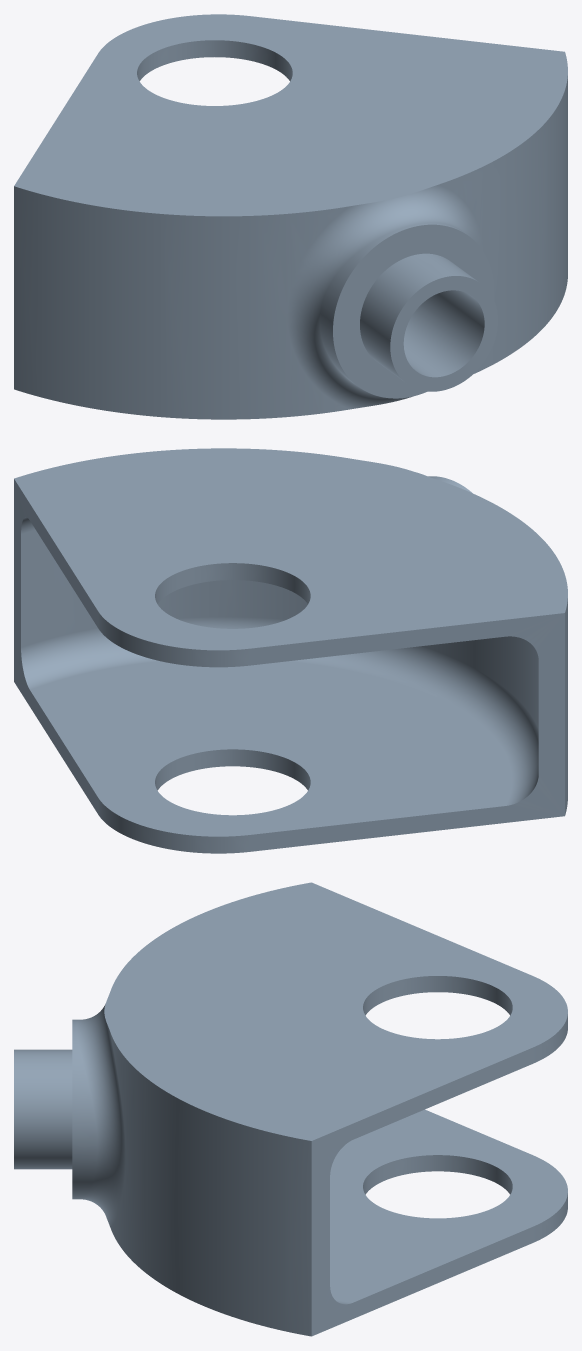
Rendered from fork.dae.
3 renders of one model, top to bottom at view 1: azimuth 30°, elevation 25°; view 2: azimuth 150°, elevation 25°; view 3: azimuth 270°, elevation 25°, orthographic. The views are drawn at different scales.
Parts seen in each view (by area): view 1: ID5; view 2: ID5; view 3: ID5.
Part boxes in pixels (left/top/right/bottom): ID5: left=14, top=14, right=567, bottom=419; ID5: left=14, top=448, right=567, bottom=853; ID5: left=14, top=882, right=567, bottom=1336.
Bounding box in the file's own units: 0.2043 × 0.1849 × 0.0721.
